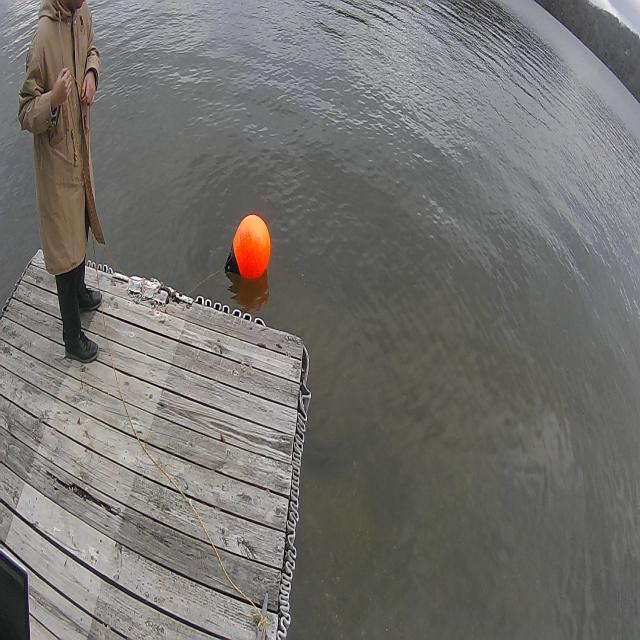Buoy: (222, 208, 273, 286)
